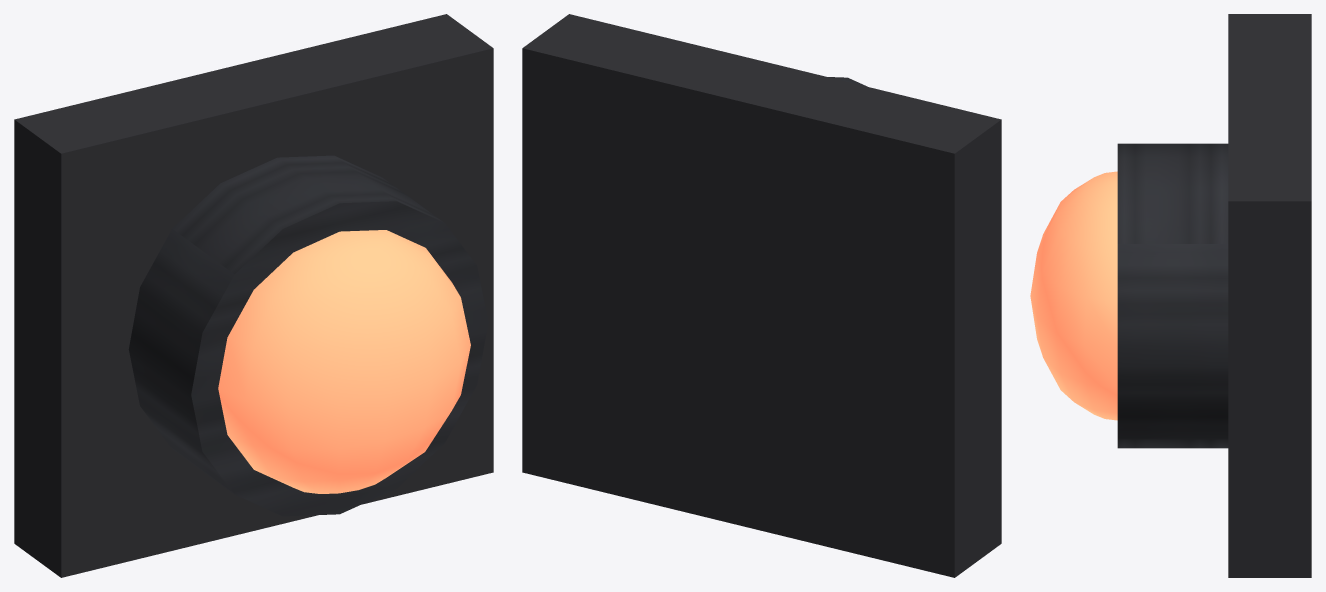
The model's file is SignalLamp_Red.fbx.
3 renders of one model, left to right at view 1: azimuth 30°, elevation 25°; view 2: azimuth 150°, elevation 25°; view 3: azimuth 270°, elevation 25°, orthographic. The views are drawn at different scales.
Parts seen in each view (by area): view 1: SignalLamp_Red; view 2: SignalLamp_Red; view 3: SignalLamp_Red.
Part boxes in pixels (x1,y1,x2,y2): SignalLamp_Red: [14, 14, 493, 577]; SignalLamp_Red: [522, 14, 1001, 577]; SignalLamp_Red: [1030, 14, 1311, 577].
Bounding box in the file's own units: 0.16 × 0.15 × 0.1015.
Materials: 3 (1 with a texture image).
